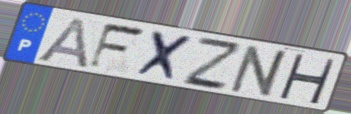A: (32, 15, 90, 70)
F: (85, 21, 149, 72)
H: (276, 52, 338, 106)
N: (226, 44, 294, 100)
X: (133, 29, 198, 84)
Z: (180, 34, 242, 92)
